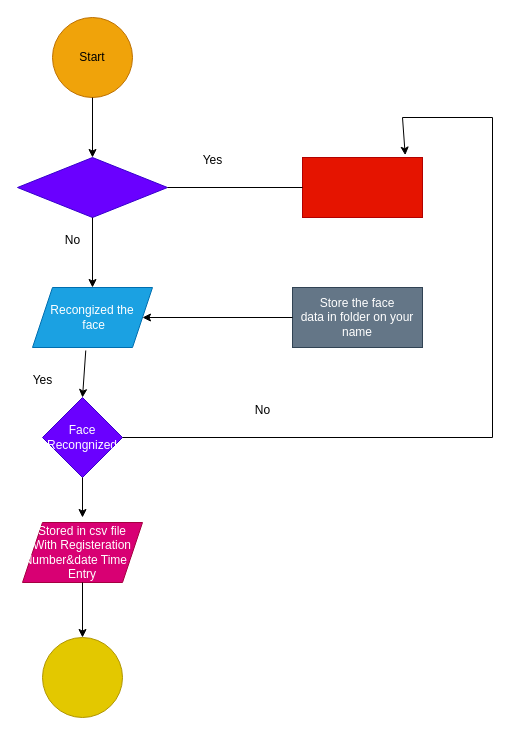
Some shapes in this 518 by 735 pixel diagram are drawn without their labels. The centre of each missing label's shape, as x and y in pixels:
"Give your Photograph" goes at (362,187).
"New User?" goes at (92,187).
